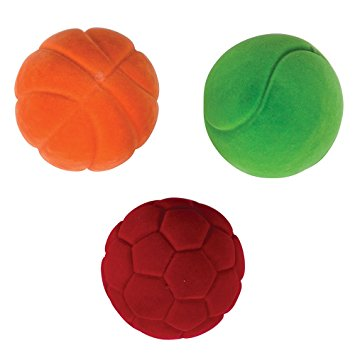red ball: (101, 197, 247, 342)
